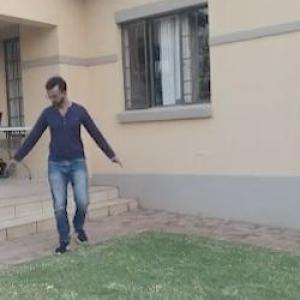land: (15, 76, 128, 262)
